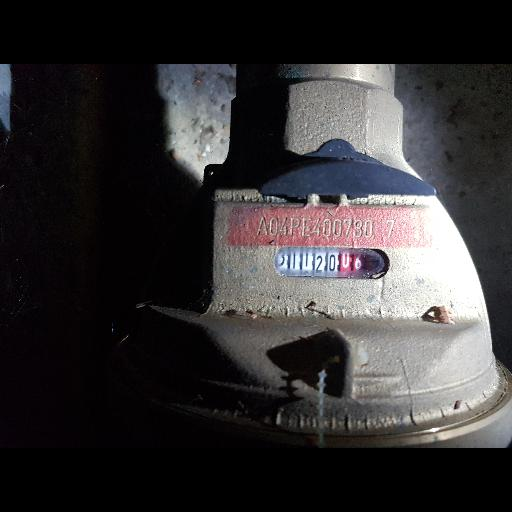0: (340, 248, 352, 279), (327, 248, 339, 279)
1: (302, 246, 314, 277), (290, 246, 301, 277)
2: (314, 247, 324, 277)
3: (276, 246, 287, 277)
6: (353, 248, 363, 278)
border_water_meter_number: (274, 246, 391, 281)
